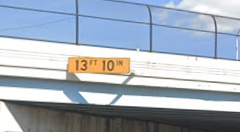0: (106, 59, 115, 72)
1: (100, 59, 106, 72), (73, 58, 79, 70)
3: (79, 58, 88, 71)
overheadsign: (66, 57, 131, 74)
